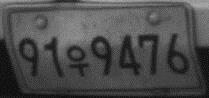1: (43, 37, 65, 79)
4: (116, 33, 142, 77)
6: (166, 31, 190, 76)
7: (136, 32, 160, 76)
9: (89, 34, 114, 79), (16, 37, 39, 77)
우: (65, 44, 90, 77)
